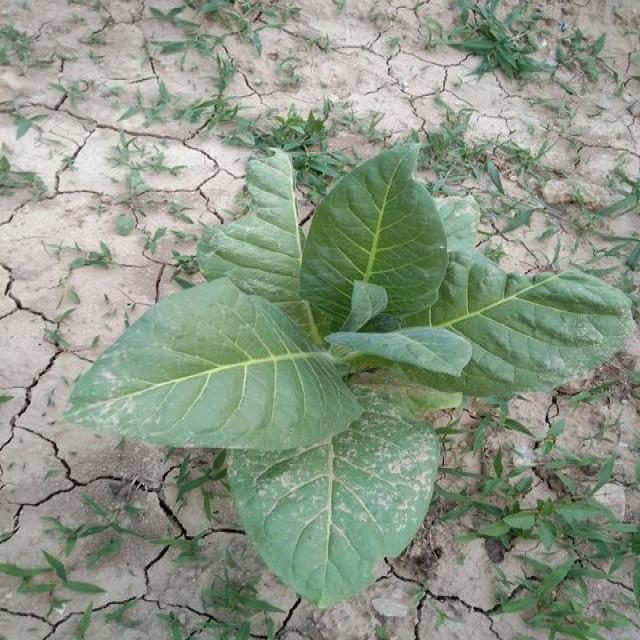crop: (68, 129, 626, 591)
